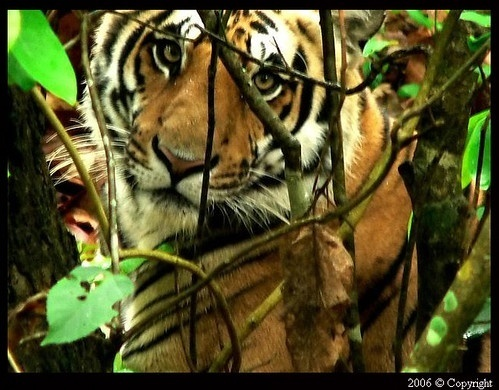tigre: (82, 11, 429, 371)
